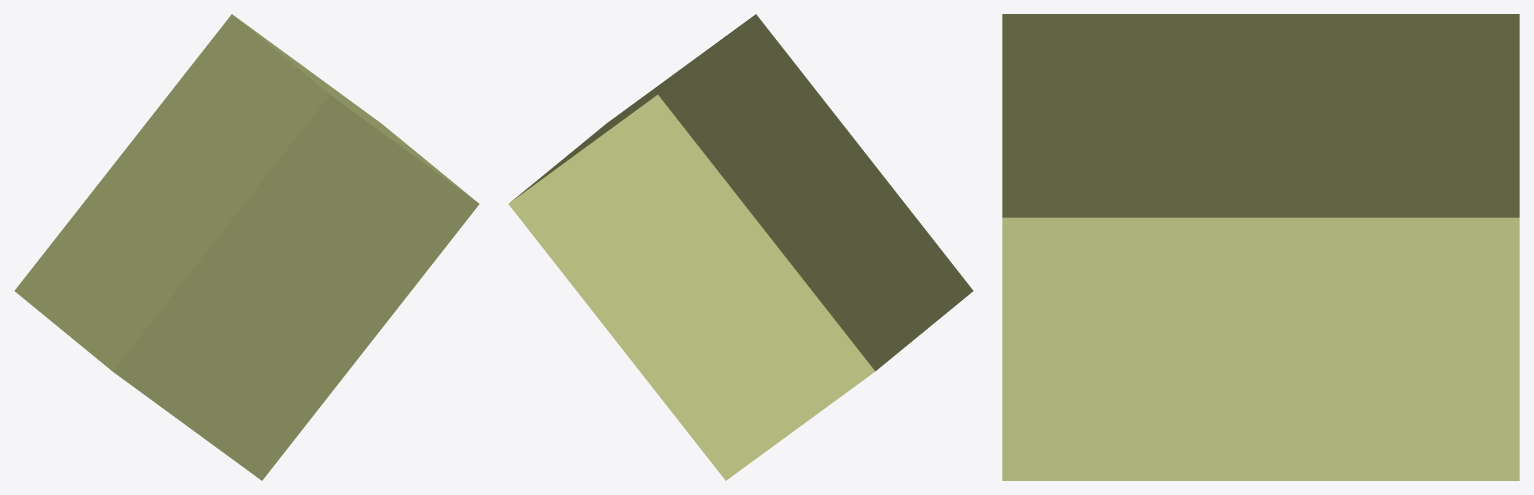
3 views of the same model, side by side, from view 1: azimuth 30°, elevation 25°; view 2: azimuth 150°, elevation 25°; view 3: azimuth 270°, elevation 25° (orthographic). The views are drawn at different scales.
Visible parts, largest first — view 1: 0_0_1_2_0_0_0_0_2; view 2: 0_0_1_2_0_0_0_0_2; view 3: 0_0_1_2_0_0_0_0_2.
Part boxes in pixels (<box>): 0_0_1_2_0_0_0_0_2: <box>14,14,479,480</box>; 0_0_1_2_0_0_0_0_2: <box>508,14,973,480</box>; 0_0_1_2_0_0_0_0_2: <box>1002,14,1519,480</box>.
Bounding box in the file's own units: 10.97 × 10.9 × 9.
